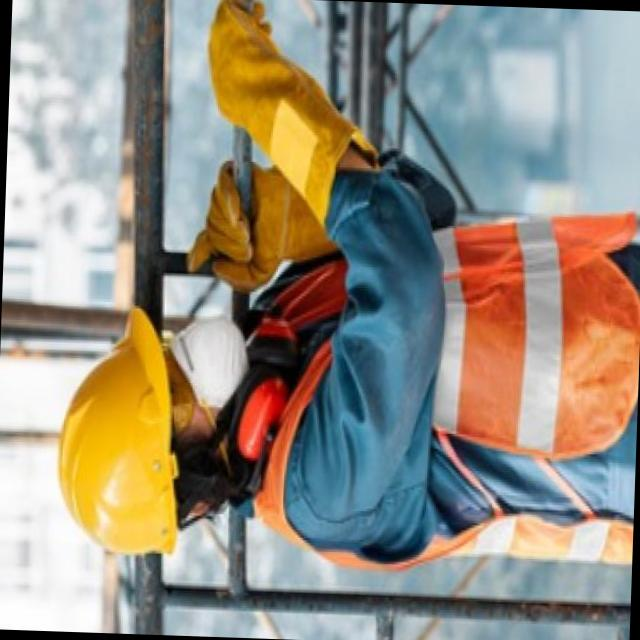gloved: (197, 0, 381, 232), (171, 166, 325, 295)
